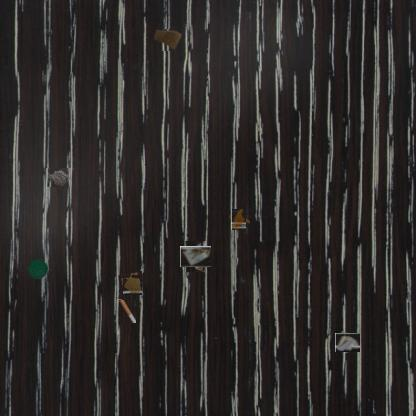dirty: (182, 244, 209, 269), (154, 30, 184, 52), (26, 257, 50, 281), (46, 167, 72, 187), (337, 331, 359, 354), (118, 299, 136, 323)
liquid: (121, 272, 143, 294), (230, 210, 248, 229)
